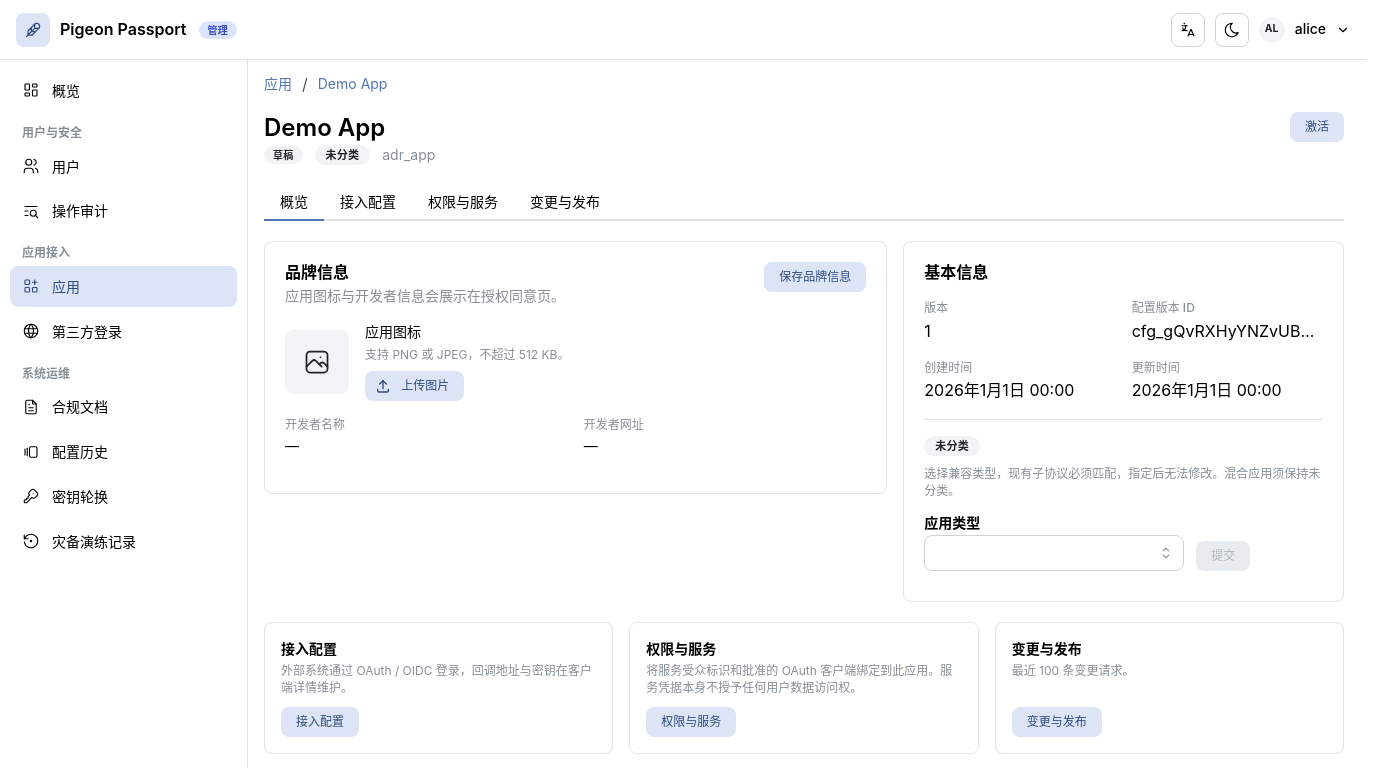
admin resource detail page › shows the complete configuration version ID in a tooltip
The image size is (1378, 768).
Hover over the text "cfg_gQvRXHyYNZvUB5FaD1Y4lg" at [1227, 331], box [1132,319,1323,344]
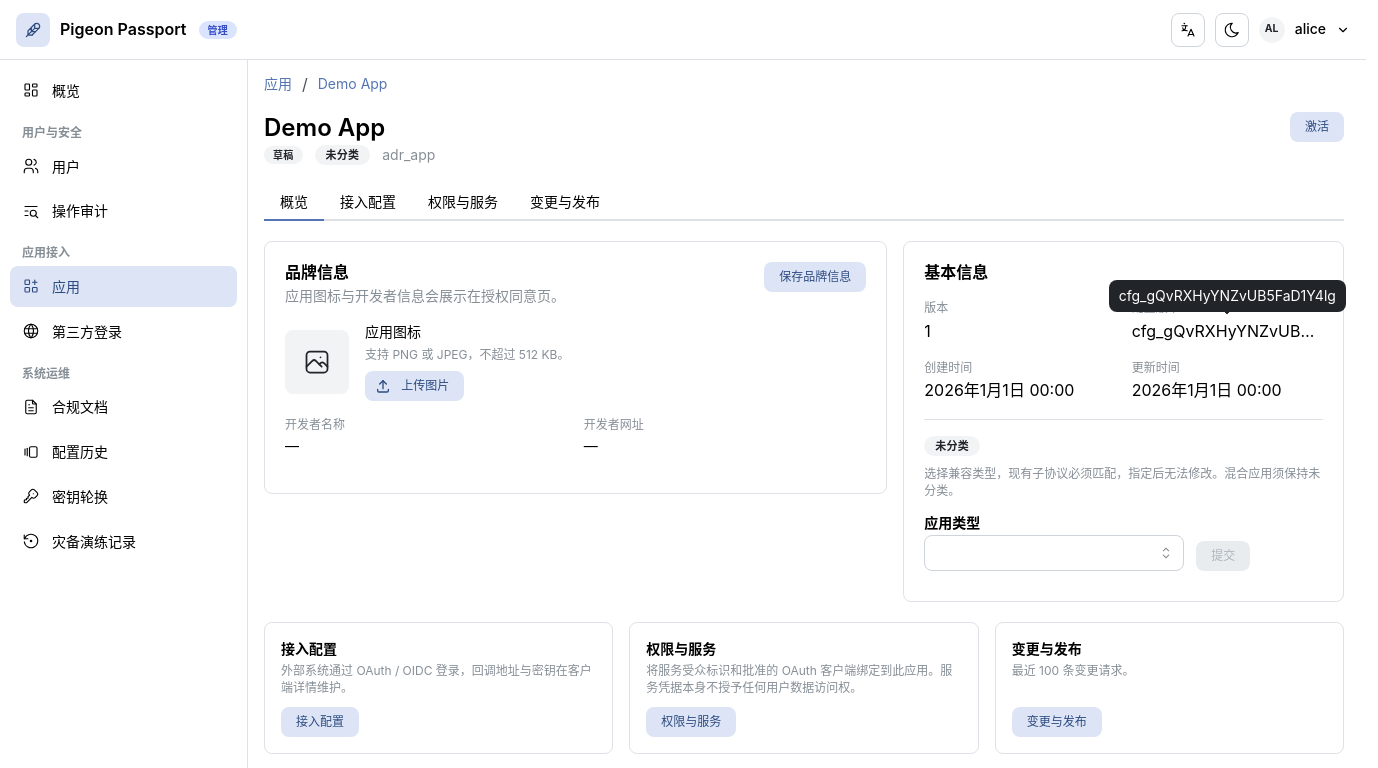
Result: the tooltip reads "cfg_gQvRXHyYNZvUB5FaD1Y4lg" at [1119,287,1336,304]
